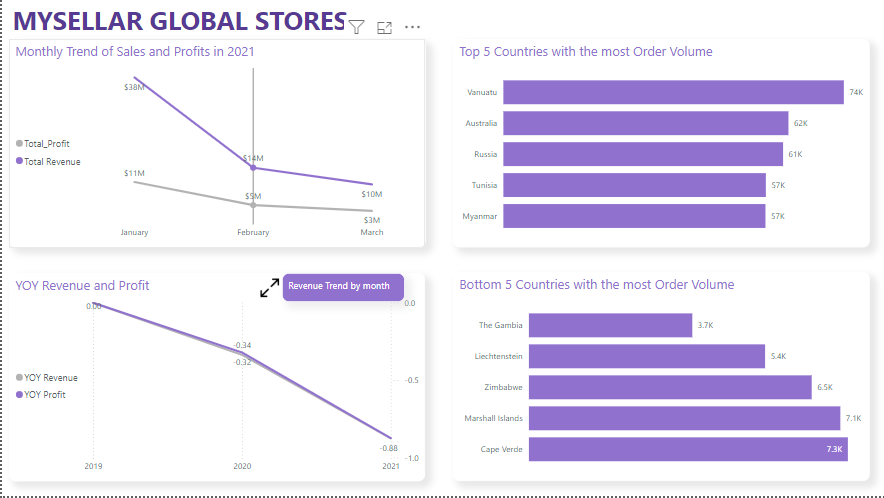

The page's visual inventory and layout, read from the dashboard file:
{"tool":"powerbi","page":{"name":"Page 2","canvas":[1280,720],"ordinal":1},"visuals":[{"type":"textbox","box":[10.3,0,531.7,76.8],"z":0},{"type":"lineChart","title":"Monthly Trend of Sales and Profits in 2021 ","fields":{"Category":["Date Table.Month Name"],"Y":["Measures_.Total_Profit","Measures_.Total Revenue"]},"box":[9.7,58.4,603.8,301.9],"z":1000},{"type":"barChart","title":"Top 5 Countries with the most Order Volume","fields":{"Category":["Orders.Country"],"Y":["Sum(Orders.Units Sold)"]},"box":[654,58,604,302],"z":2000},{"type":"barChart","title":"Bottom 5 Countries with the most Order Volume","fields":{"Category":["Orders.Country"],"Y":["Sum(Orders.Units Sold)"]},"box":[653.8,396.2,603.8,302.5],"z":3000},{"type":"lineChart","title":"YOY Revenue and Profit","fields":{"Category":["Date Table.Year"],"Y":["Measures_.YOY% Revenue"],"Y2":["Measures_.YOY% Profit"]},"box":[10,396.7,603.3,301.7],"z":4000},{"type":"image","box":[368.9,396.7,36.7,42.2],"z":5000},{"type":"textbox","box":[405.6,396.7,177.8,42.2],"z":6000}]}

Visuals, with their boxes in screenshot pixels (x1, y1, x2, y2), scaled from the page's 1280x720 canvas onto the 884x498 screenshot:
textbox: <bbox>7, 0, 374, 53</bbox>
"Monthly Trend of Sales and Profits in 2021 " lineChart: <bbox>7, 40, 424, 249</bbox>
"Top 5 Countries with the most Order Volume" barChart: <bbox>452, 40, 869, 249</bbox>
"Bottom 5 Countries with the most Order Volume" barChart: <bbox>452, 274, 869, 483</bbox>
"YOY Revenue and Profit" lineChart: <bbox>7, 274, 424, 483</bbox>
image: <bbox>255, 274, 280, 304</bbox>
textbox: <bbox>280, 274, 403, 304</bbox>
